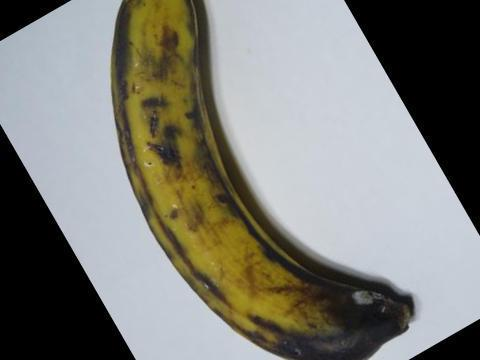overripe: (94, 0, 412, 359)
rotten: (264, 243, 432, 359)
